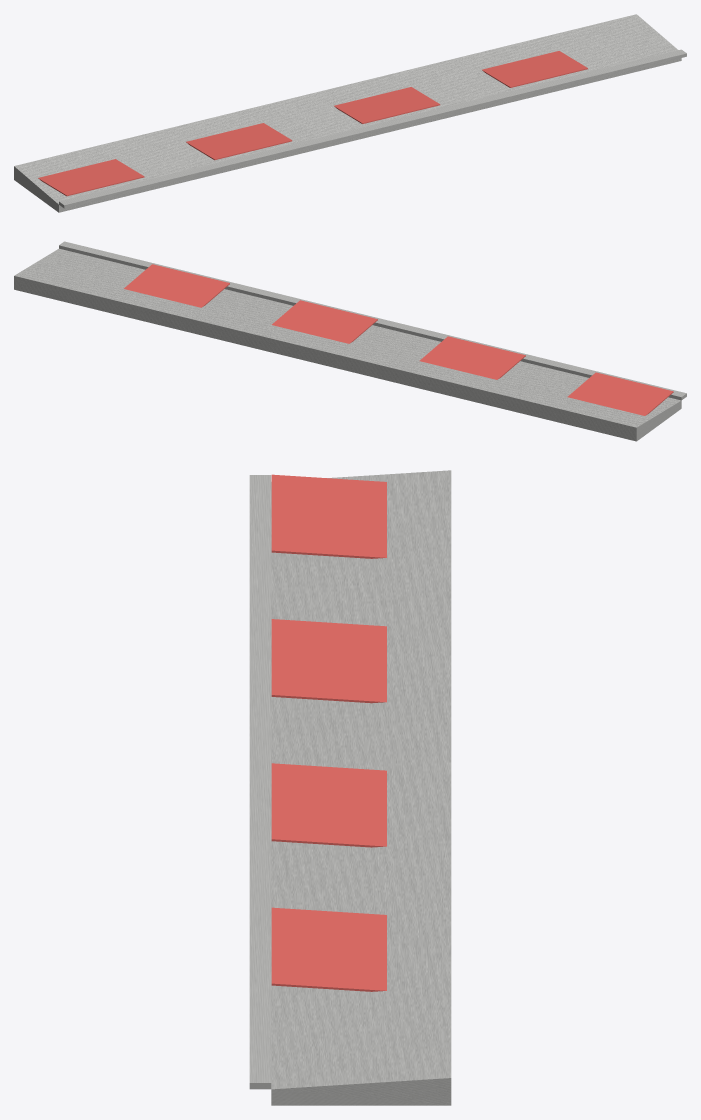
The model's file is go-kart-track-and-pit-lane-kerb-section-red-white-9e513acf__34336.glb.
3 views of the same model, one above another, from view 1: azimuth 30°, elevation 25°; view 2: azimuth 150°, elevation 25°; view 3: azimuth 270°, elevation 25° (orthographic). The views are drawn at different scales.
Parts seen in each view (by area): view 1: kerb-section-red-white-concrete, kerb-section-red-white-red; view 2: kerb-section-red-white-concrete, kerb-section-red-white-red; view 3: kerb-section-red-white-concrete, kerb-section-red-white-red.
Part boxes in pixels (x1,y1,x2,y2): kerb-section-red-white-concrete: (14, 14, 686, 212); kerb-section-red-white-red: (38, 51, 587, 196); kerb-section-red-white-concrete: (14, 241, 686, 441); kerb-section-red-white-red: (124, 264, 673, 415); kerb-section-red-white-concrete: (249, 470, 451, 1105); kerb-section-red-white-red: (271, 474, 386, 991).
Size of the model in its own units: 4 by 0.0949 by 0.5601.
2 materials, 1 textured.
